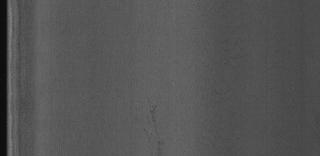inclusion: (144, 107, 164, 147)
silk spot: (191, 3, 251, 151)
